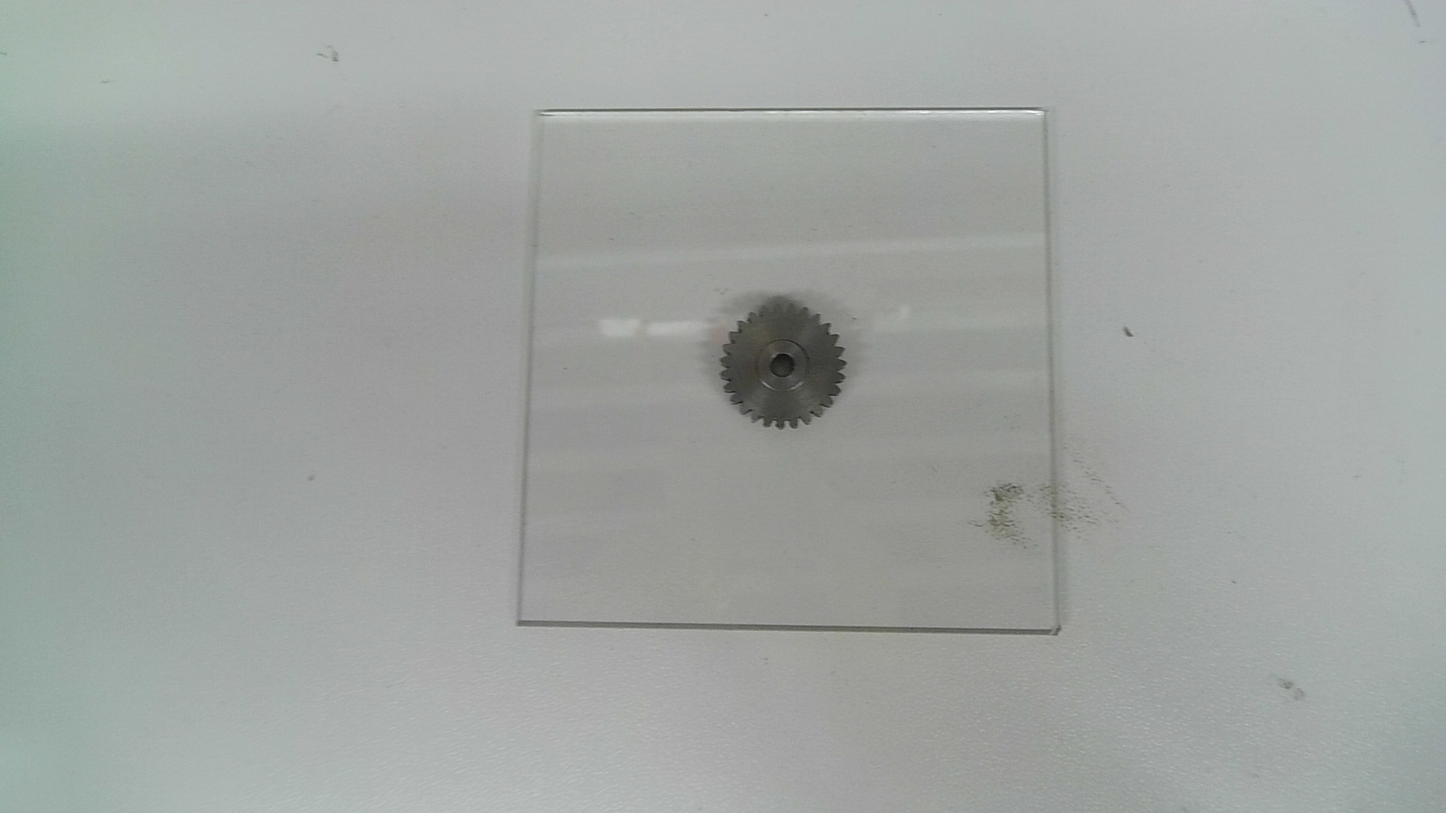gear: (719, 300, 848, 434)
